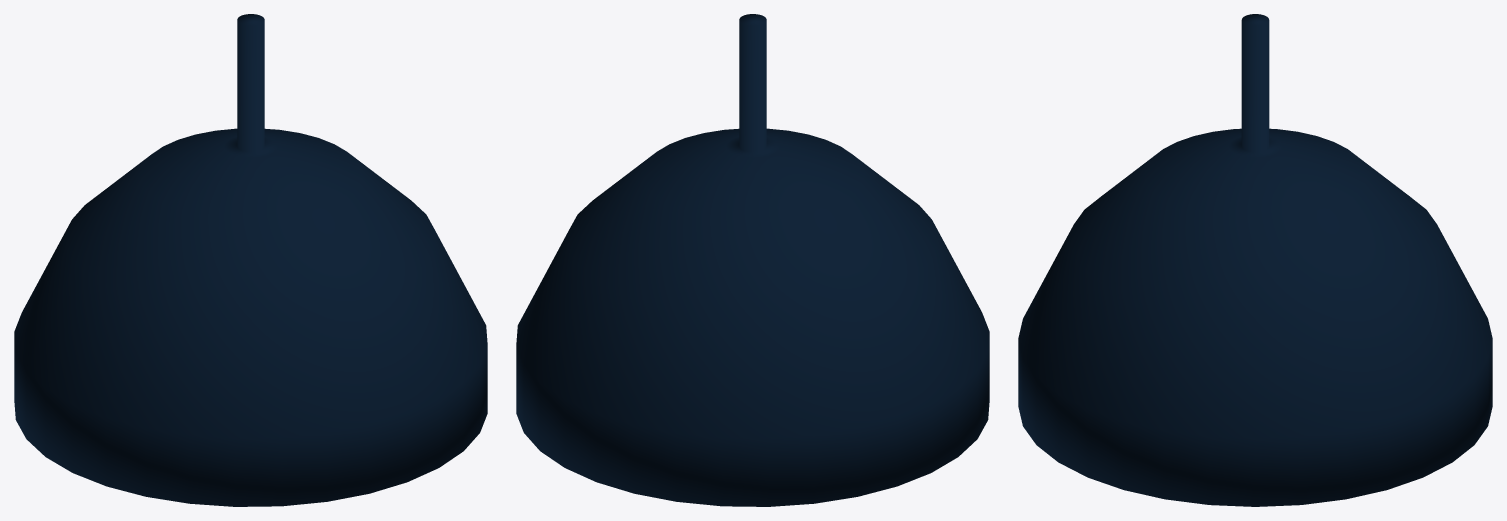
Rendered from roof_lamp.glb.
The picture shows the model from 3 angles, left to right: view 1: azimuth 30°, elevation 25°; view 2: azimuth 150°, elevation 25°; view 3: azimuth 270°, elevation 25°; orthographic projection.
Visible parts, largest first — view 1: lamp; view 2: lamp; view 3: lamp.
Part boxes in pixels (<box>): lamp: <box>14,14,487,506</box>; lamp: <box>516,14,989,506</box>; lamp: <box>1018,14,1492,506</box>.
Size of the model in its own units: 0.3835 by 0.381 by 0.3835.
